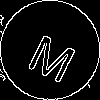M: (25, 25, 83, 85)
